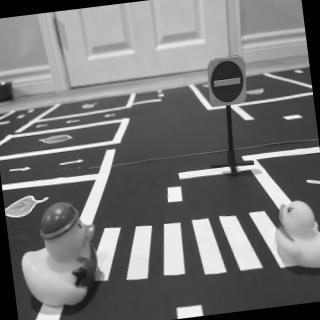duck_regular: (271, 197, 320, 276)
duck_specialty: (15, 200, 105, 314)
road_crosswalk: (91, 201, 305, 293)
road_oneway: (58, 156, 87, 171), (8, 164, 33, 177), (66, 117, 83, 125), (103, 113, 119, 121), (37, 123, 51, 132)
sign_noentry: (205, 56, 252, 109)
